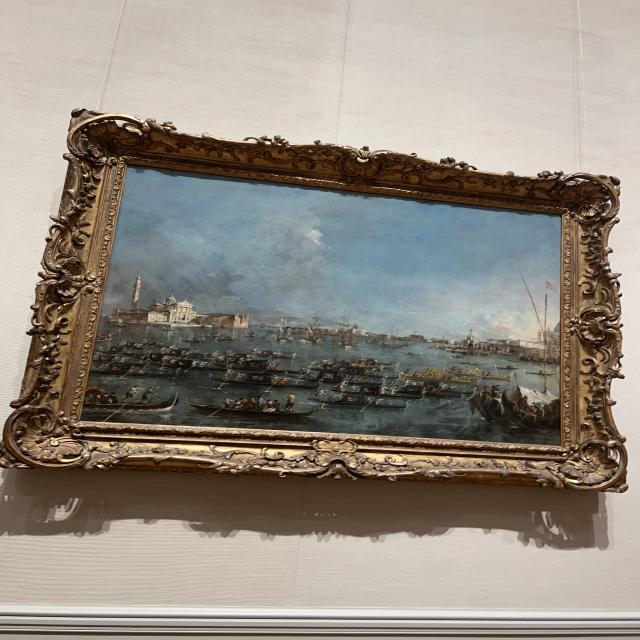ships: (91, 170, 563, 437)
